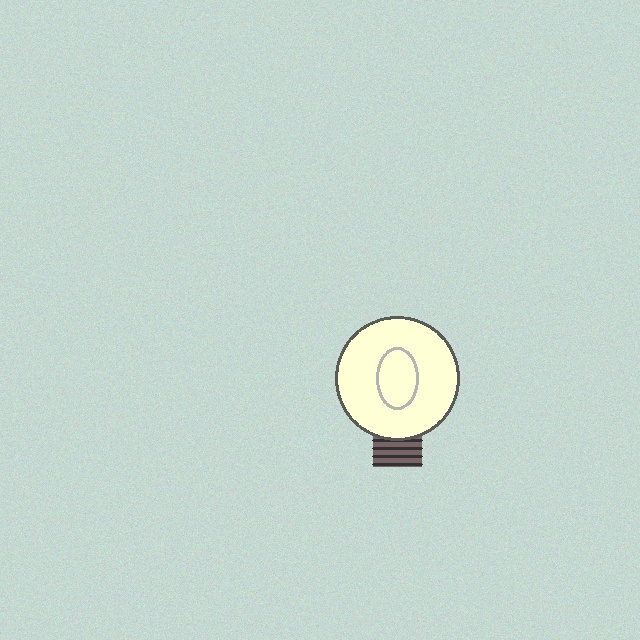bulb: (331, 312, 463, 471)
